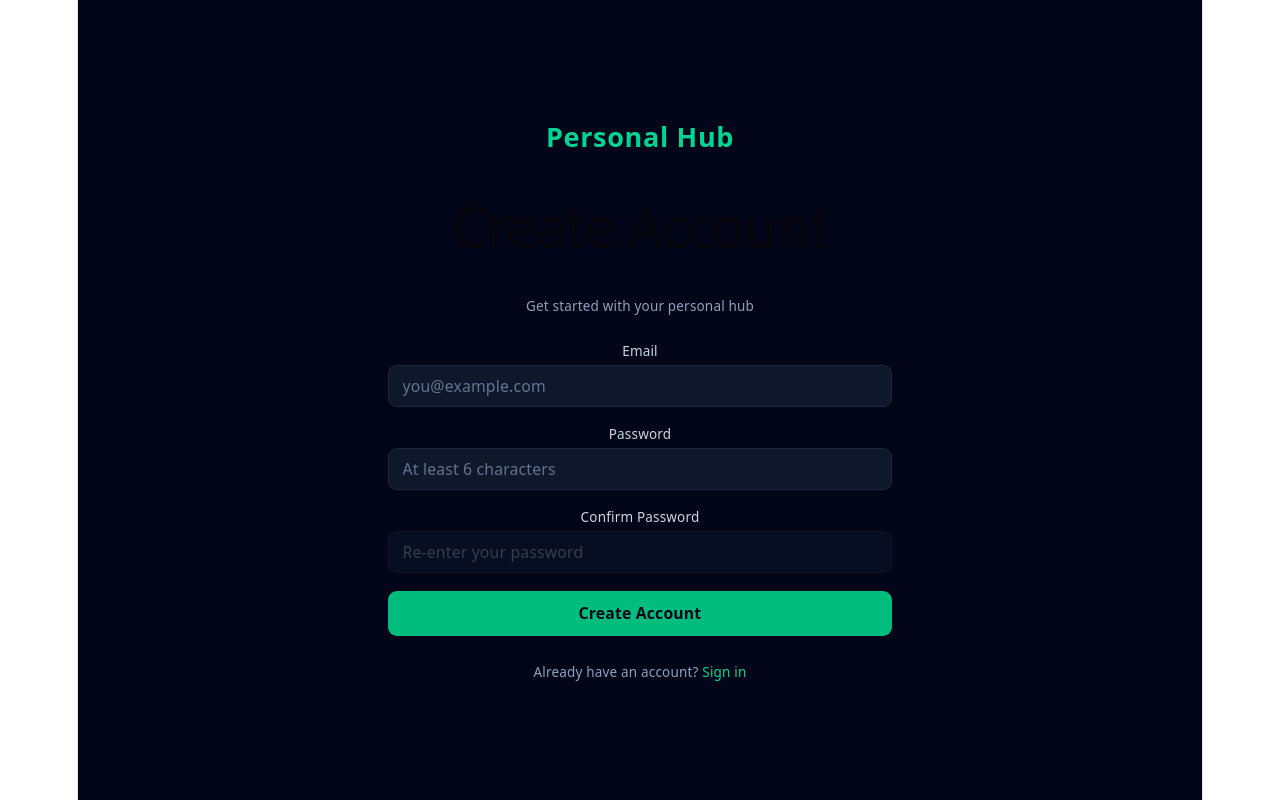
RegisterPage component › renders success card (Option B) upon successful registration
The image size is (1280, 800).
Type "newuser@test.com" into the field labelled "Email". click: (640, 386)
box: [388, 365, 892, 407]
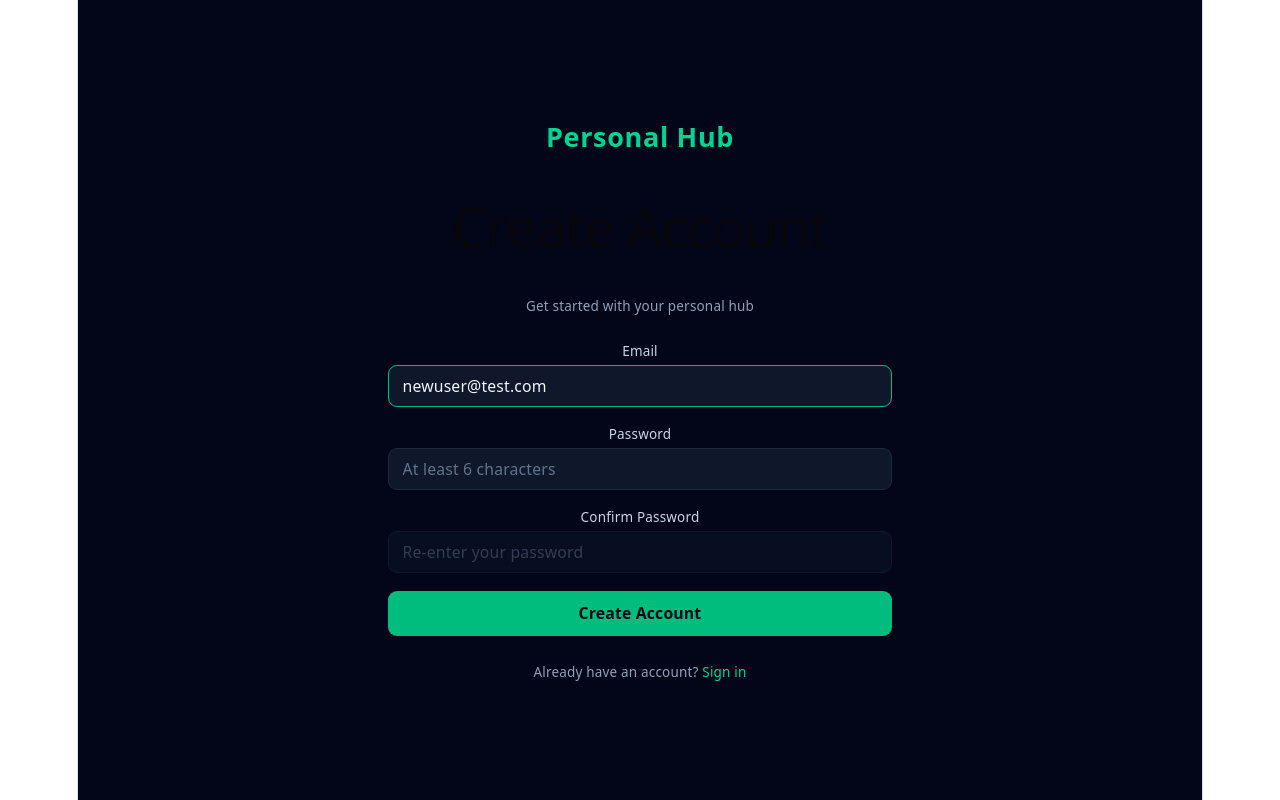
Type "password123" into the password field labelled "Password". click: (640, 469)
box: [388, 448, 892, 490]
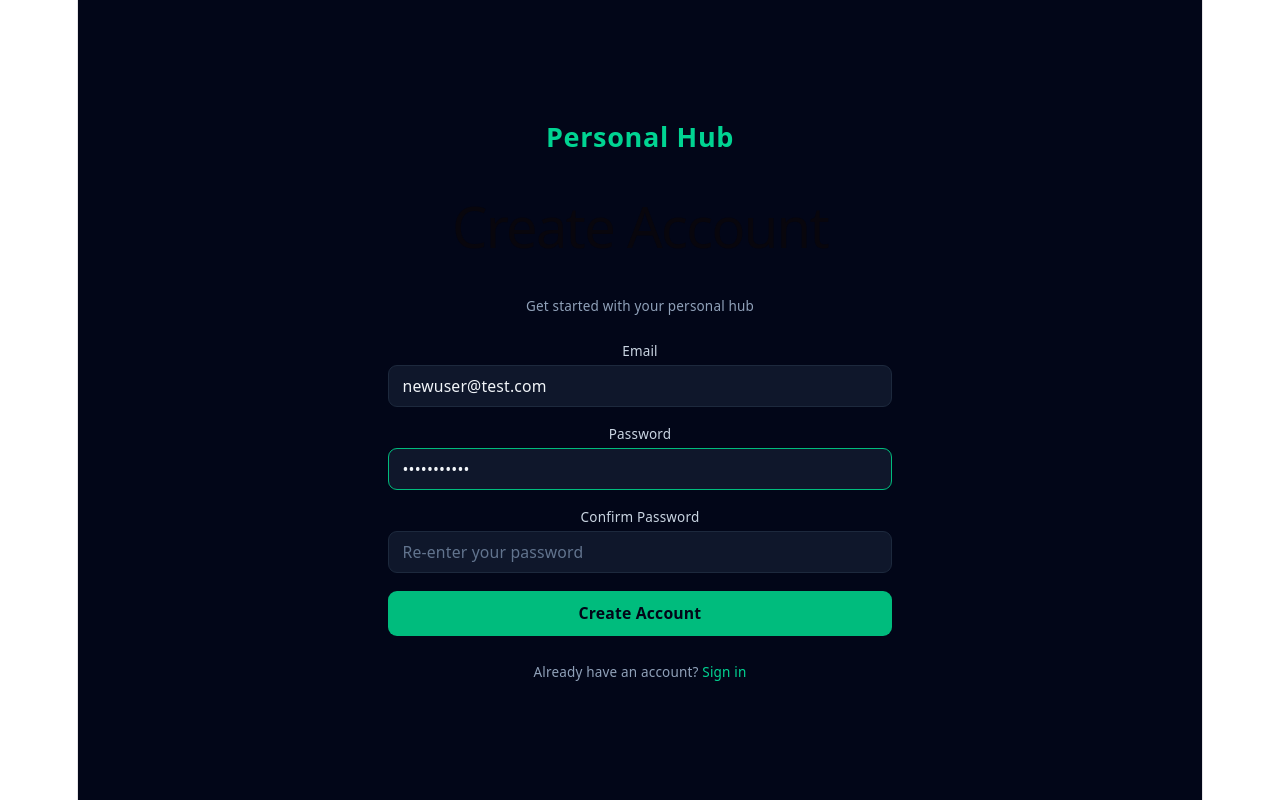
Type "password123" into the password field labelled "Confirm Password". click: (640, 552)
box: [388, 531, 892, 573]
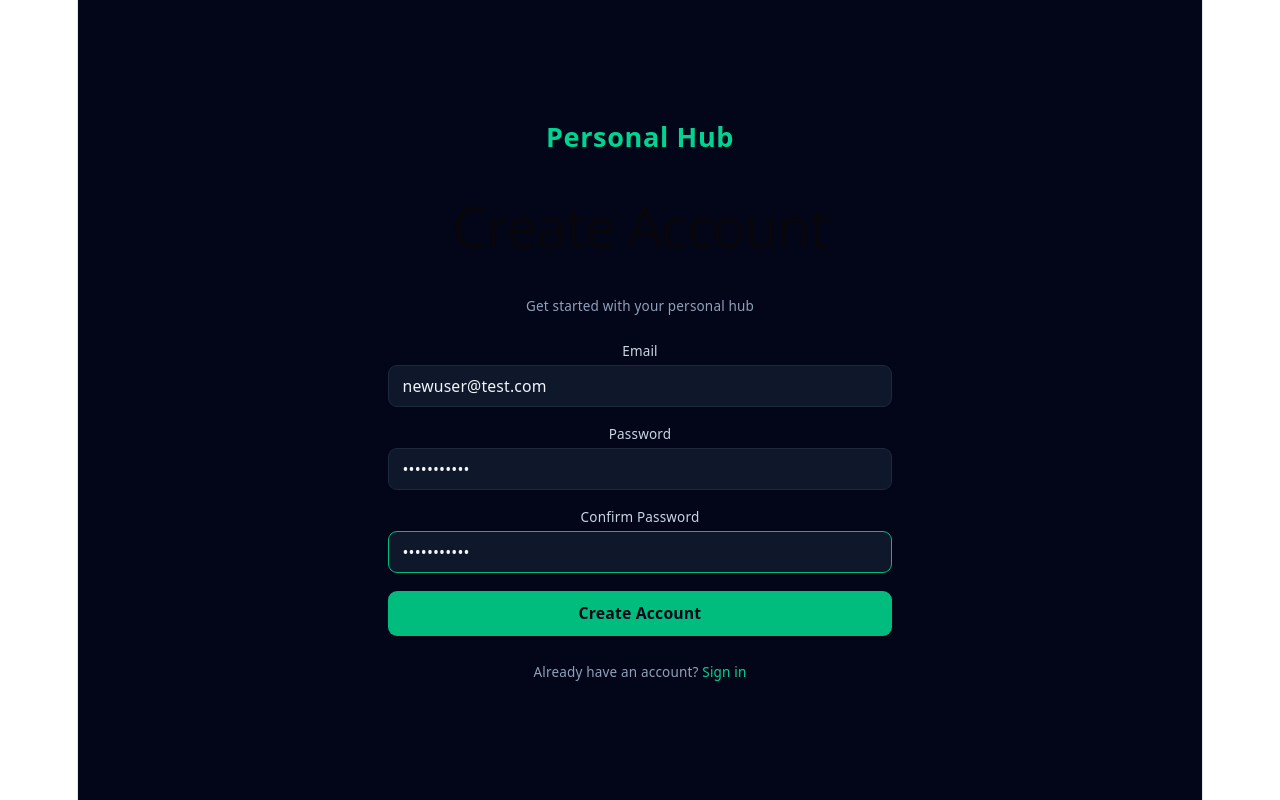
Click the button "Create Account". click: (640, 614)
box: [388, 591, 892, 636]
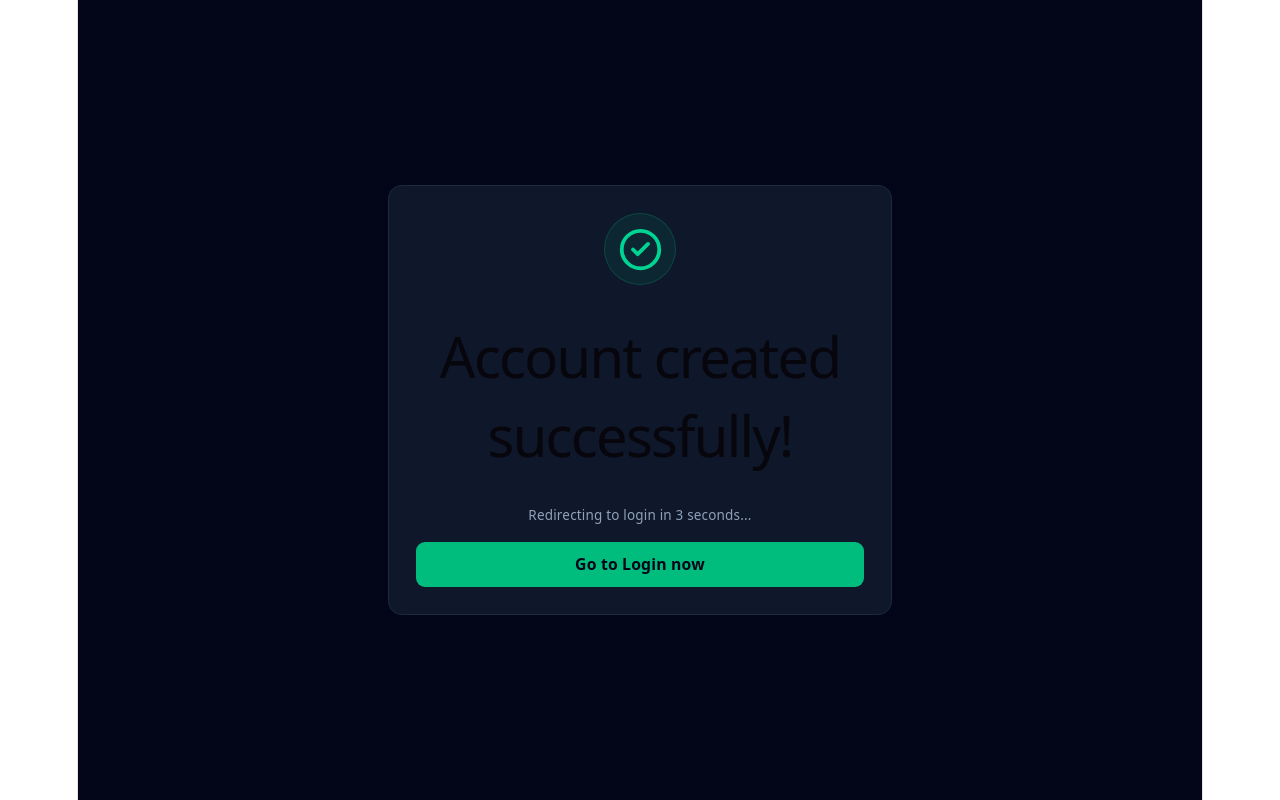
Expected: the heading "Account created successfully!" is shown, [416, 317, 864, 474]
Expected: the text "Redirecting to login in 3 seconds..." is shown, [528, 506, 752, 524]
Expected: the button "Go to Login now" is shown, [416, 542, 864, 587]
